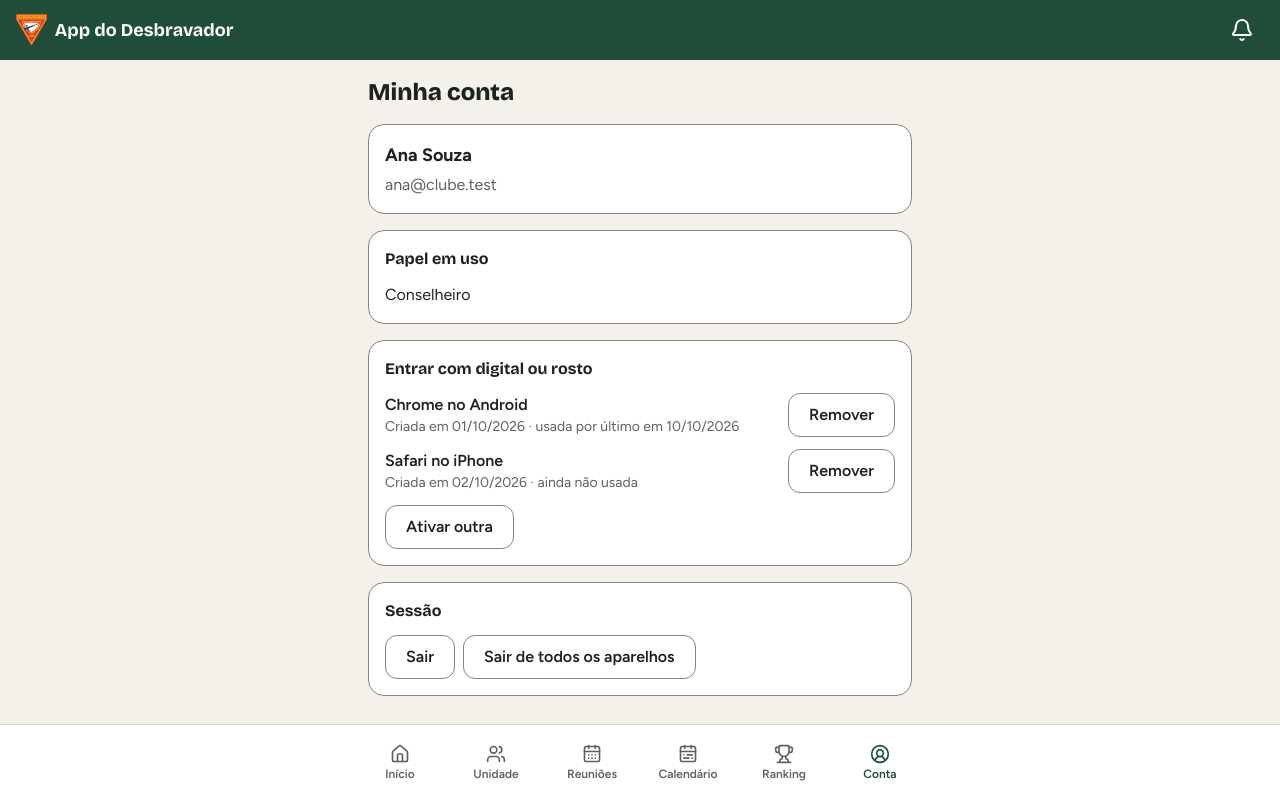
Test: Minha conta: entrar com digital ou rosto › cancelar a remoção não apaga nada
The width and height of the screenshot is (1280, 800).
Click the button with aria-label "Remover Chrome no Android". click: click(842, 415)
box: top-left (788, 393), bottom-right (895, 437)
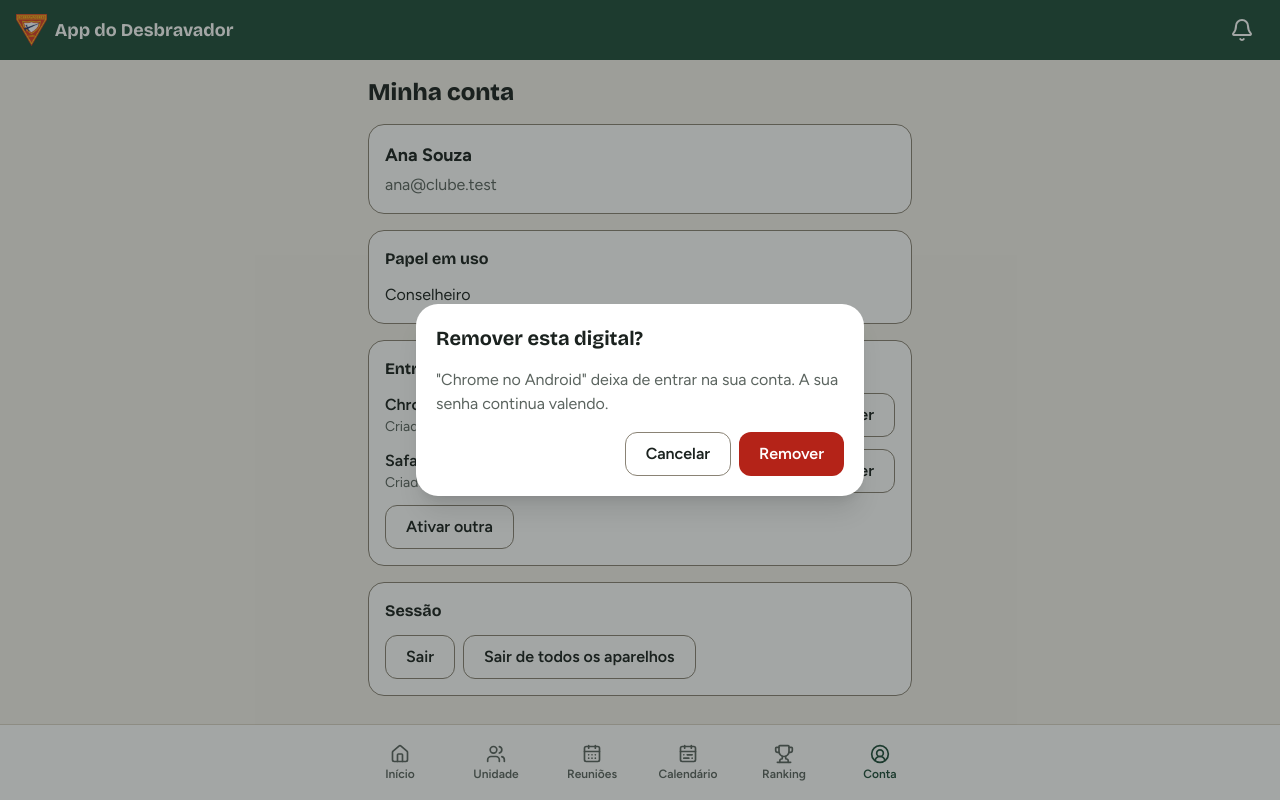
Click the button "Cancelar". click: click(678, 454)
box: top-left (625, 432), bottom-right (731, 476)
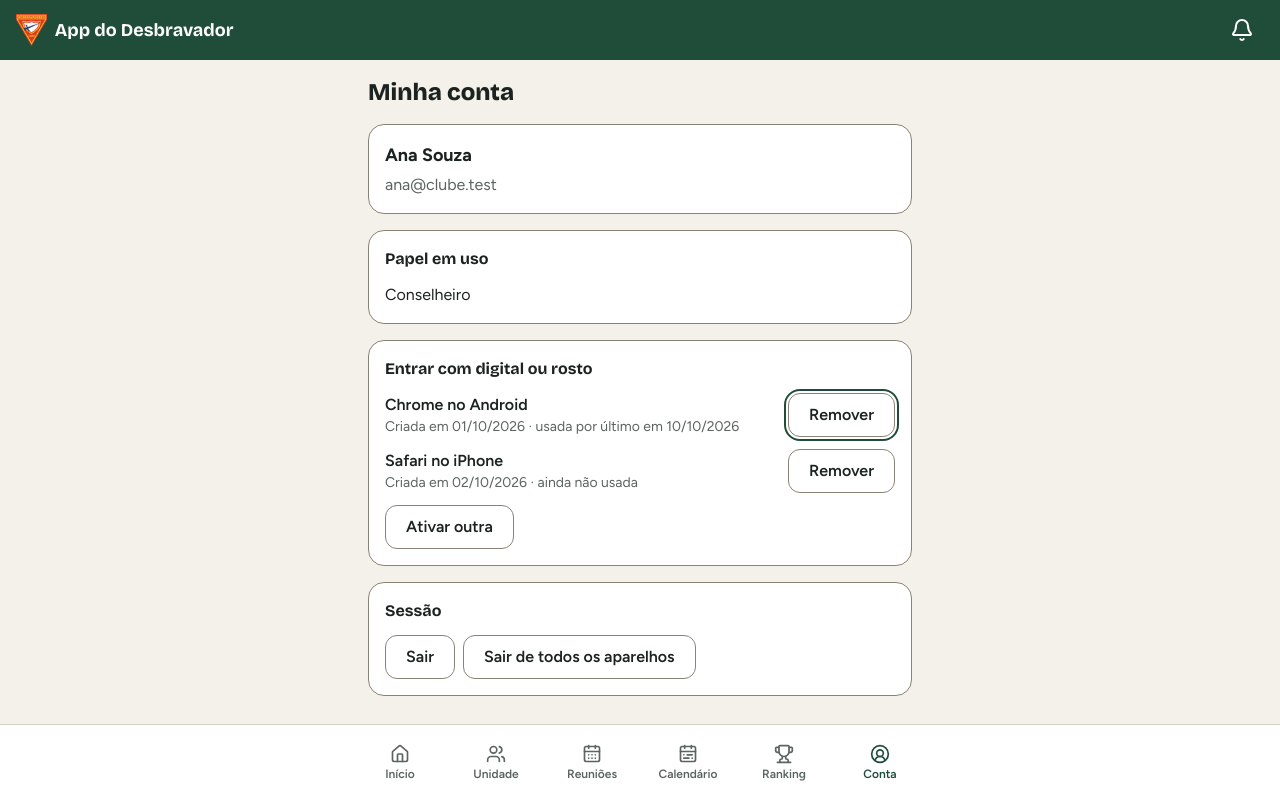
Result: the dialog is gone
